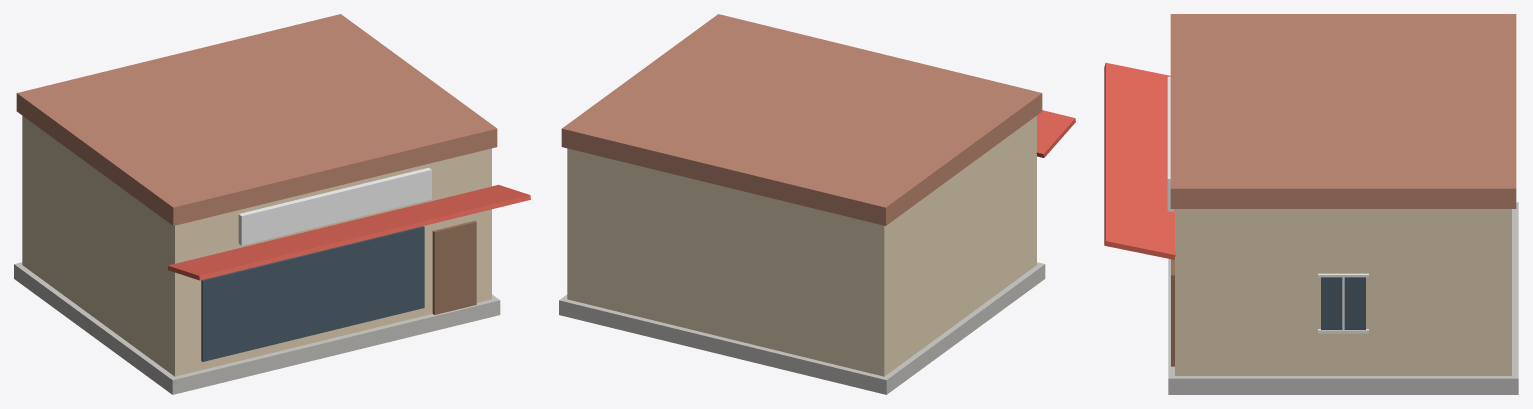
File: shop.glb
3 views of the same model, side by side, from view 1: azimuth 30°, elevation 25°; view 2: azimuth 150°, elevation 25°; view 3: azimuth 270°, elevation 25° (orthographic). The views are drawn at different scales.
Parts seen in each view (by area): view 1: shop; view 2: shop; view 3: shop.
Part boxes in pixels (left/top/right/bottom): shop: left=14, top=14, right=530, bottom=394; shop: left=559, top=14, right=1075, bottom=394; shop: left=1104, top=14, right=1518, bottom=394.
Size of the model in its own units: 9.4 by 5.05 by 9.22.
